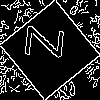Z: (25, 25, 73, 60)
